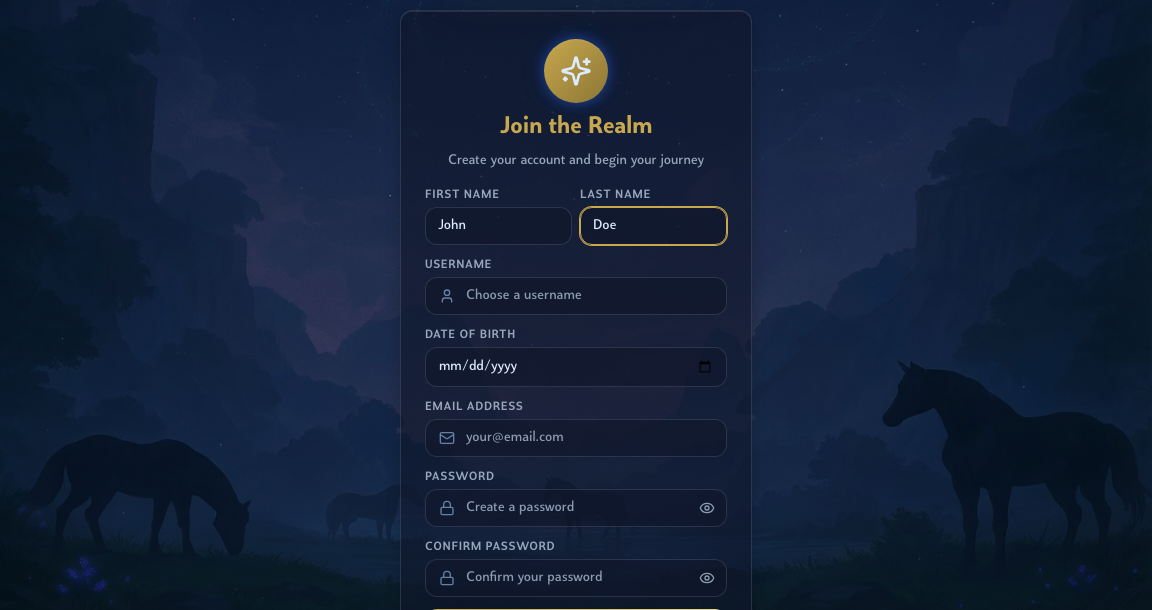
Scenario: RegisterPage › AC-2: Client-Side Validation › shows error when password missing uppercase
Earlier steps of the test are not shown.
Type "johndoe" into the field labelled "Username" at {"x": 576, "y": 296}, box [425,277,727,315]
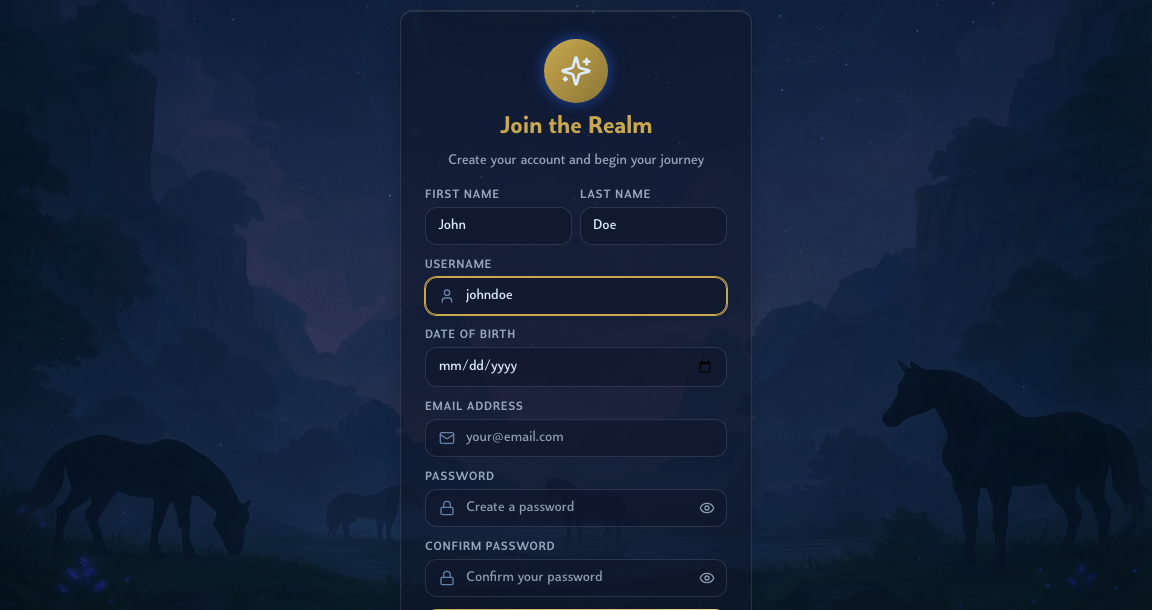
Type "john@example.com" into the field labelled "Email Address" at {"x": 576, "y": 438}, box [425,419,727,457]
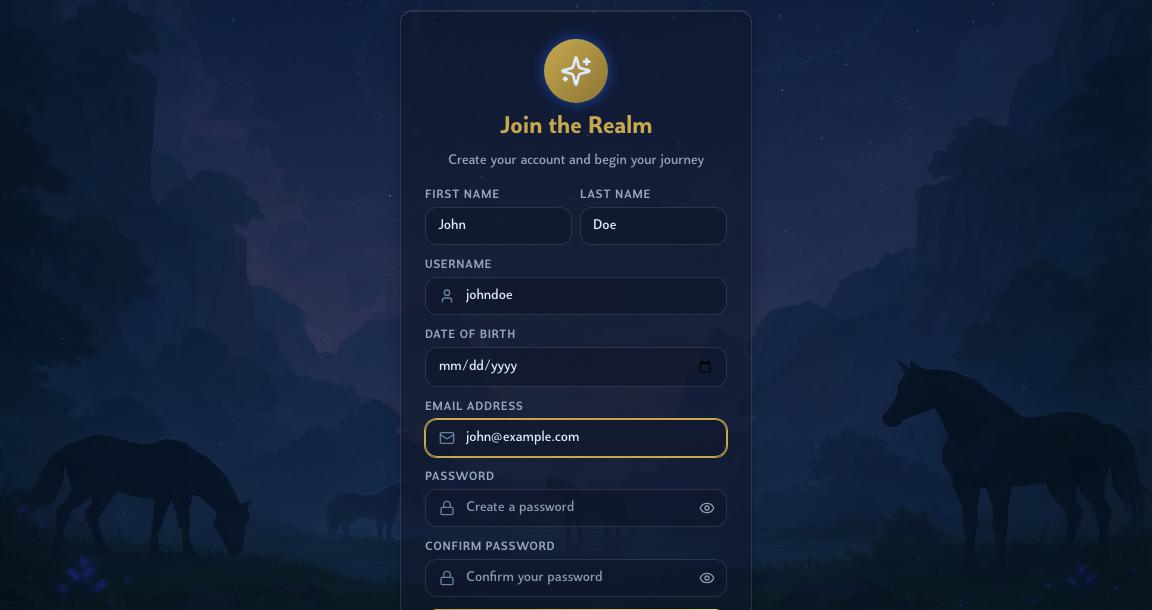
Type "password123@" into the password field labelled "Password" at {"x": 576, "y": 508}, box [425,489,727,527]
(page scrolled)
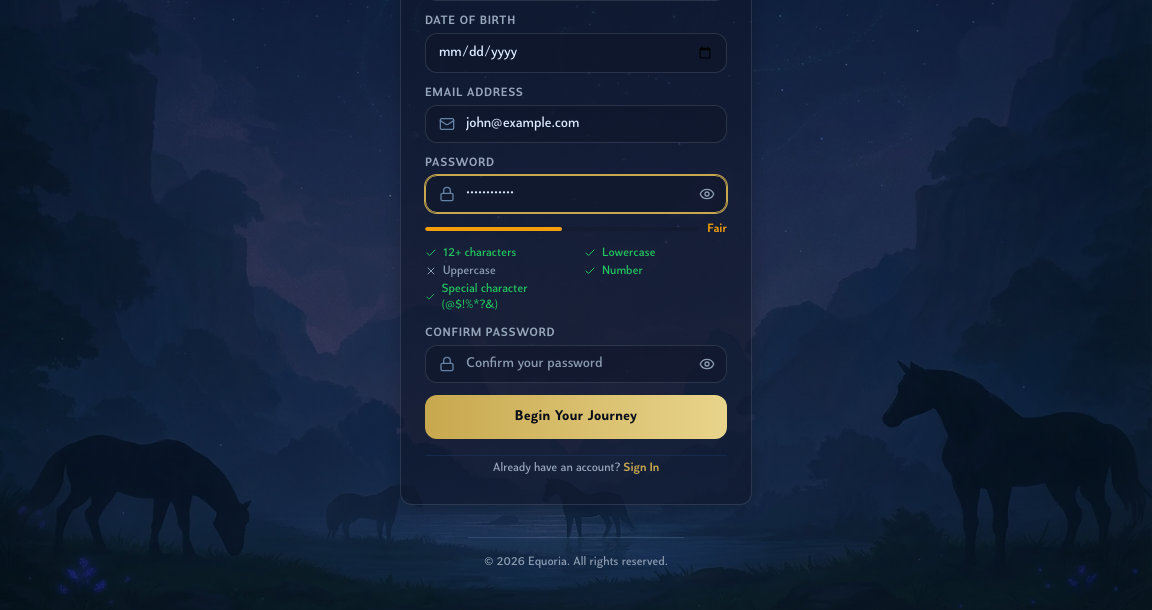
Type "password123@" into the password field labelled "Confirm Password" at {"x": 576, "y": 364}, box [425,345,727,383]
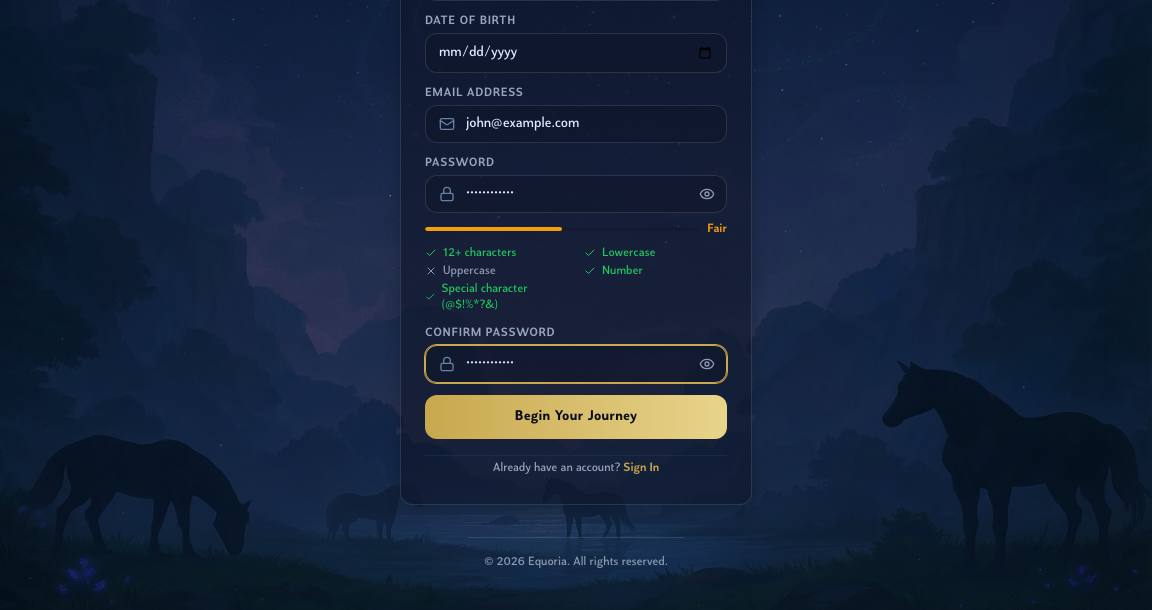
Type "1990-01-01" into the date field labelled "Date of Birth" at {"x": 576, "y": 53}, box [425,33,727,73]
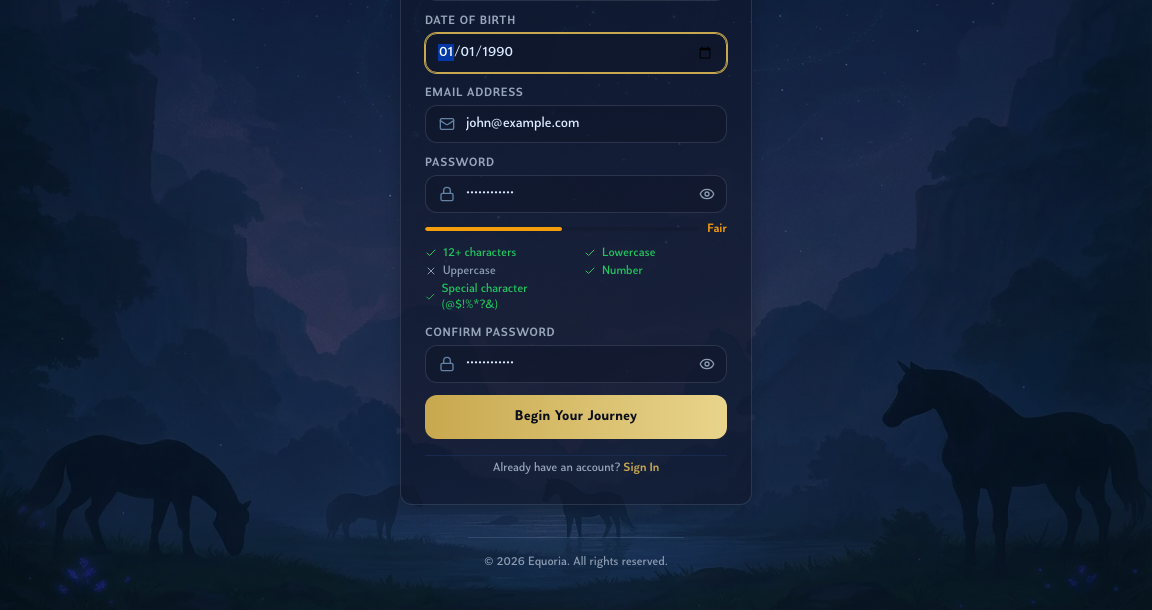
Click the button "Begin Your Journey" at {"x": 576, "y": 417}, box [425,395,727,439]
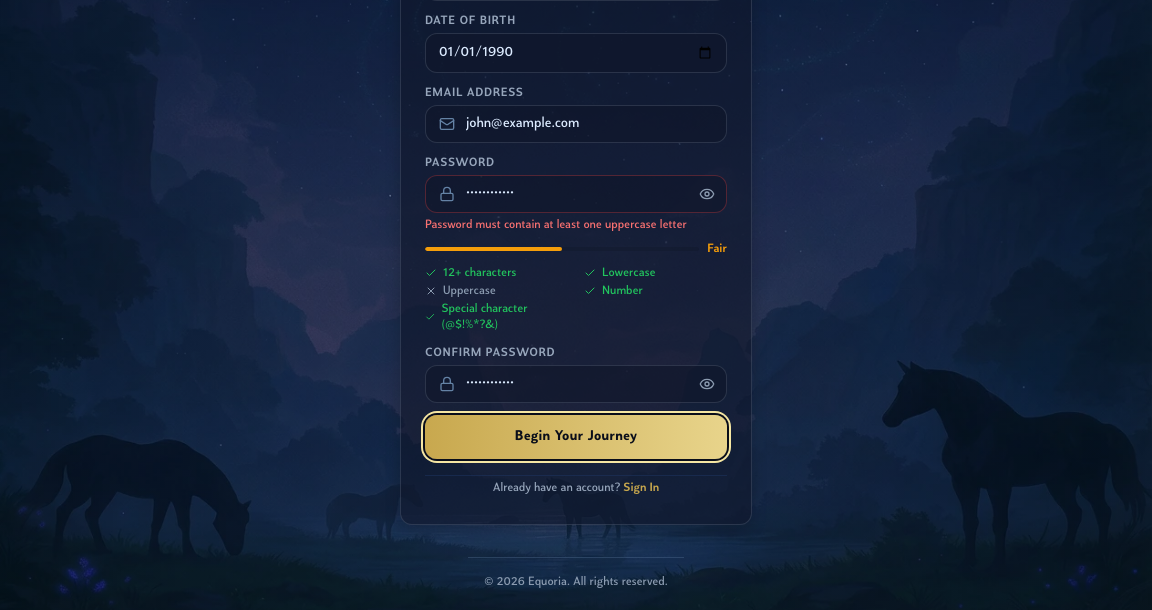
Expected: the text "Password must contain at least one uppercase letter" is shown, [425,217,727,233]
